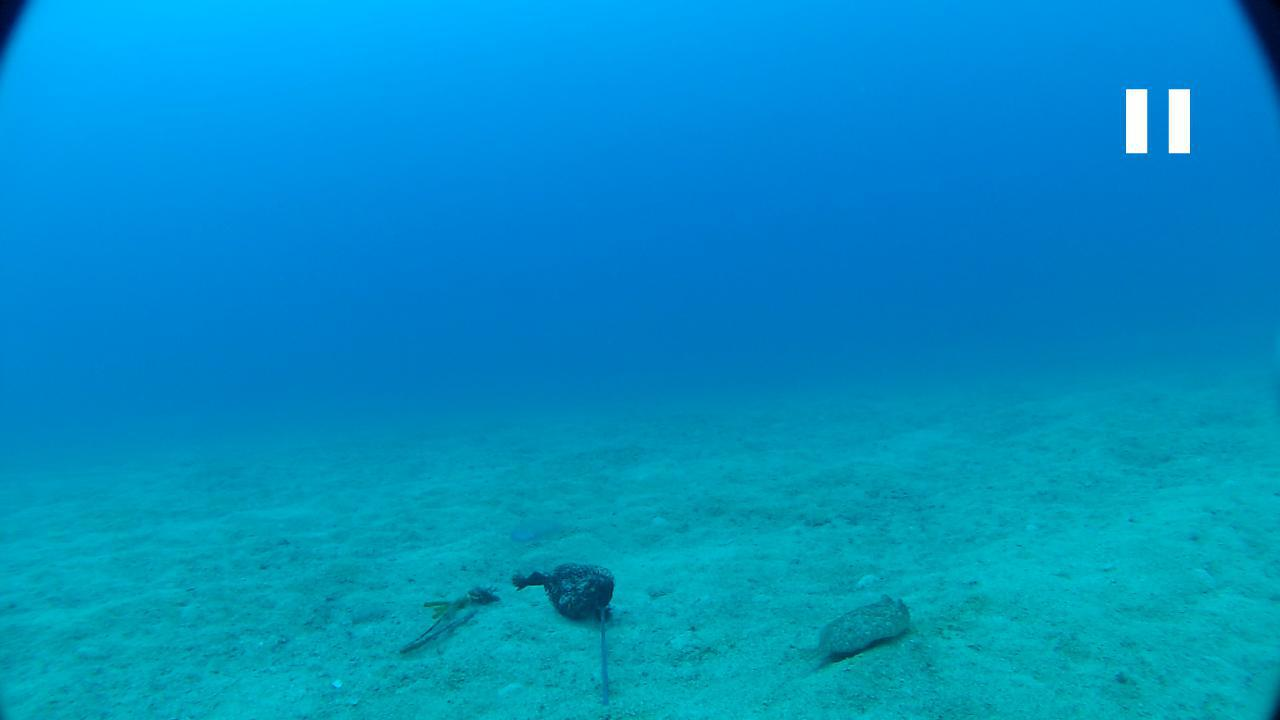bothus: (794, 590, 911, 666)
